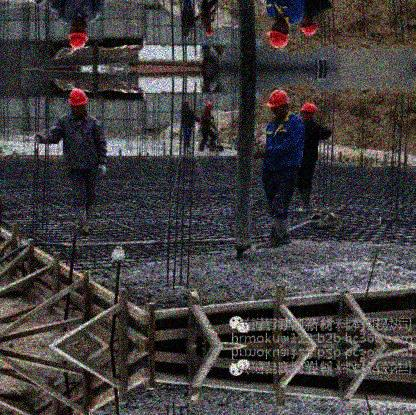helmet: (265, 87, 291, 117), (68, 87, 91, 117), (268, 20, 291, 49), (67, 21, 89, 49), (300, 18, 319, 37), (300, 104, 316, 120), (206, 98, 216, 113), (205, 27, 215, 37)
